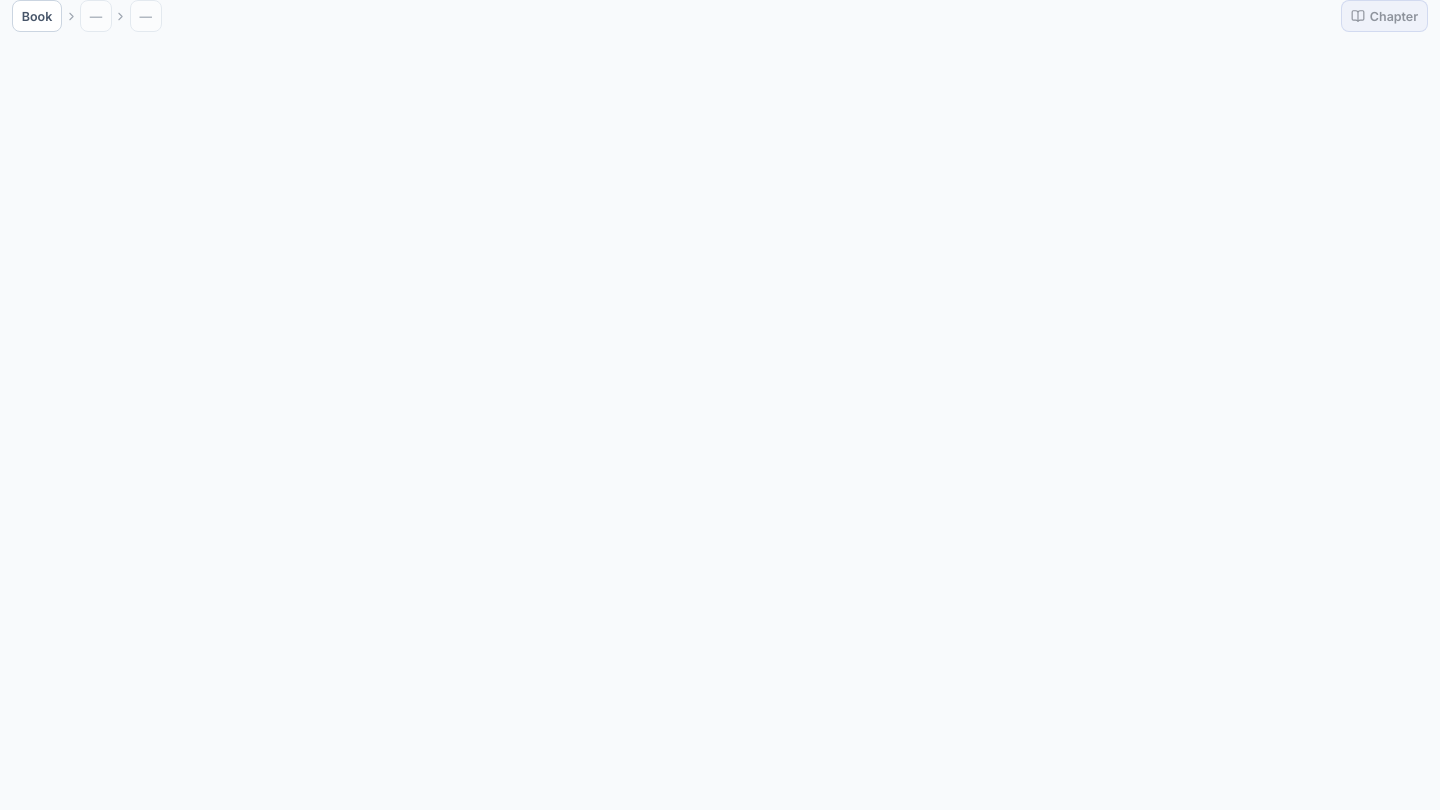
it: ScriptureNavigator › walks book → chapter → verse and reports the selection once
Click the button "Book" at (37, 16), box [12,0,62,32]
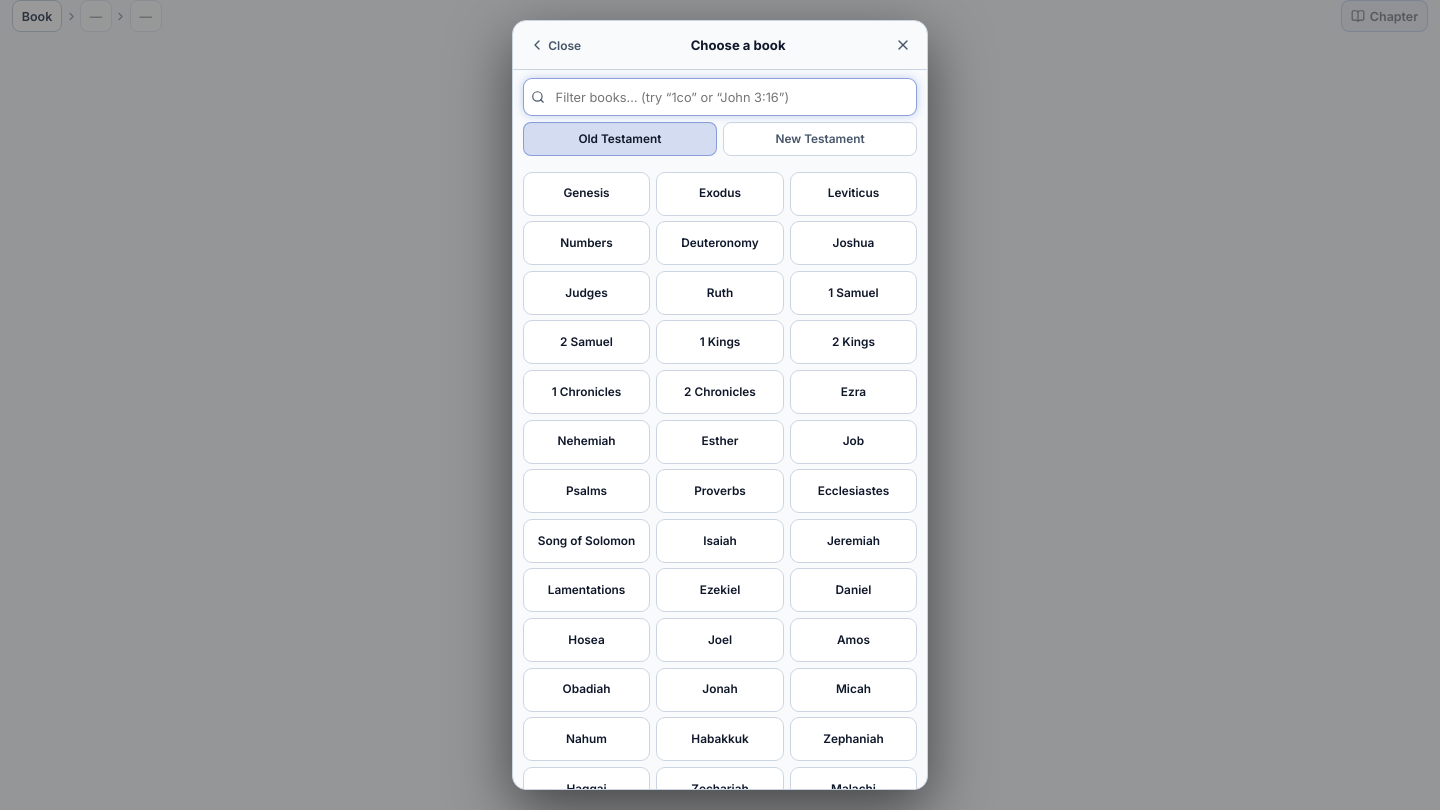
Type "John" into the field labelled "Filter books" at (720, 97), box [523,78,917,116]
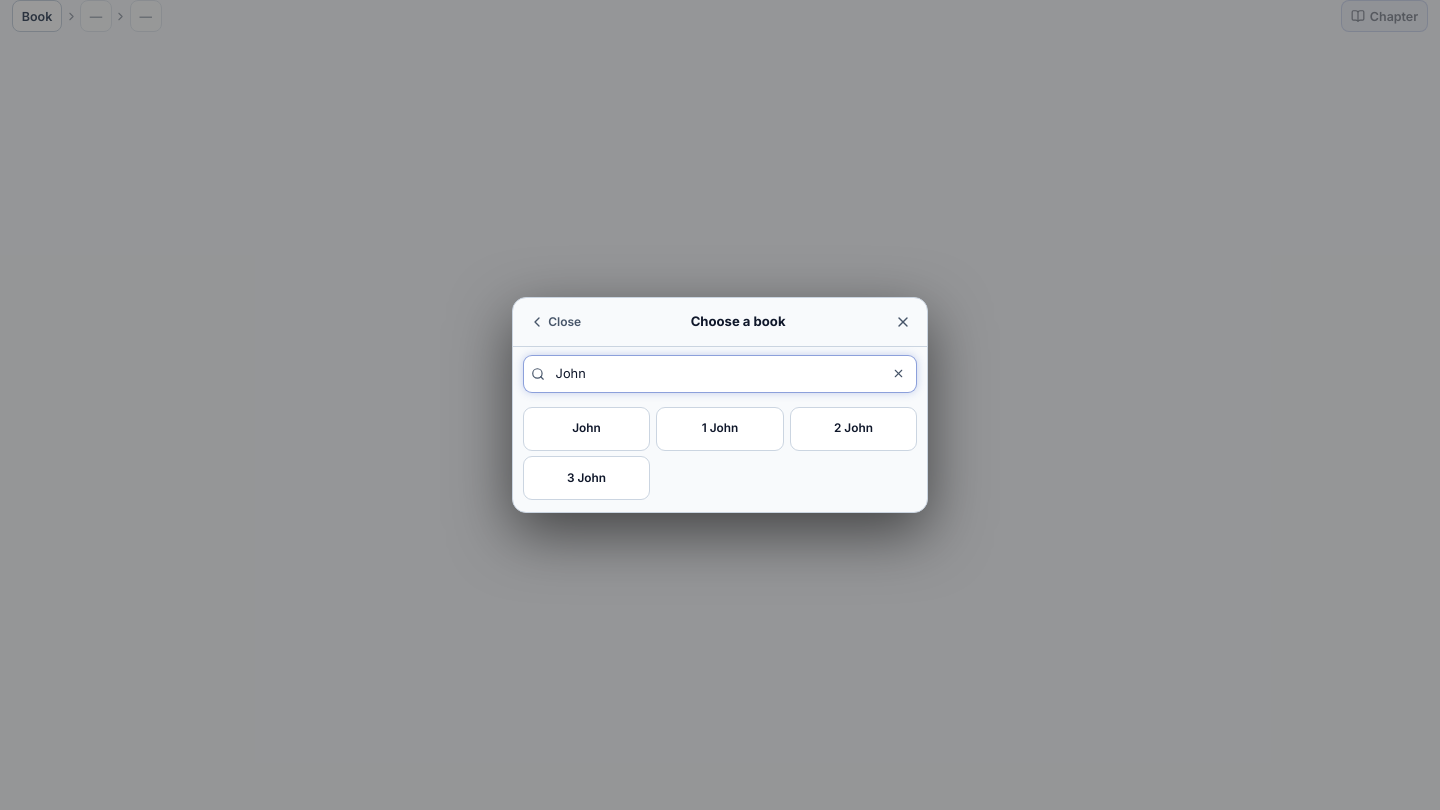
Click the button "John" at (587, 428), box [523,406,650,450]
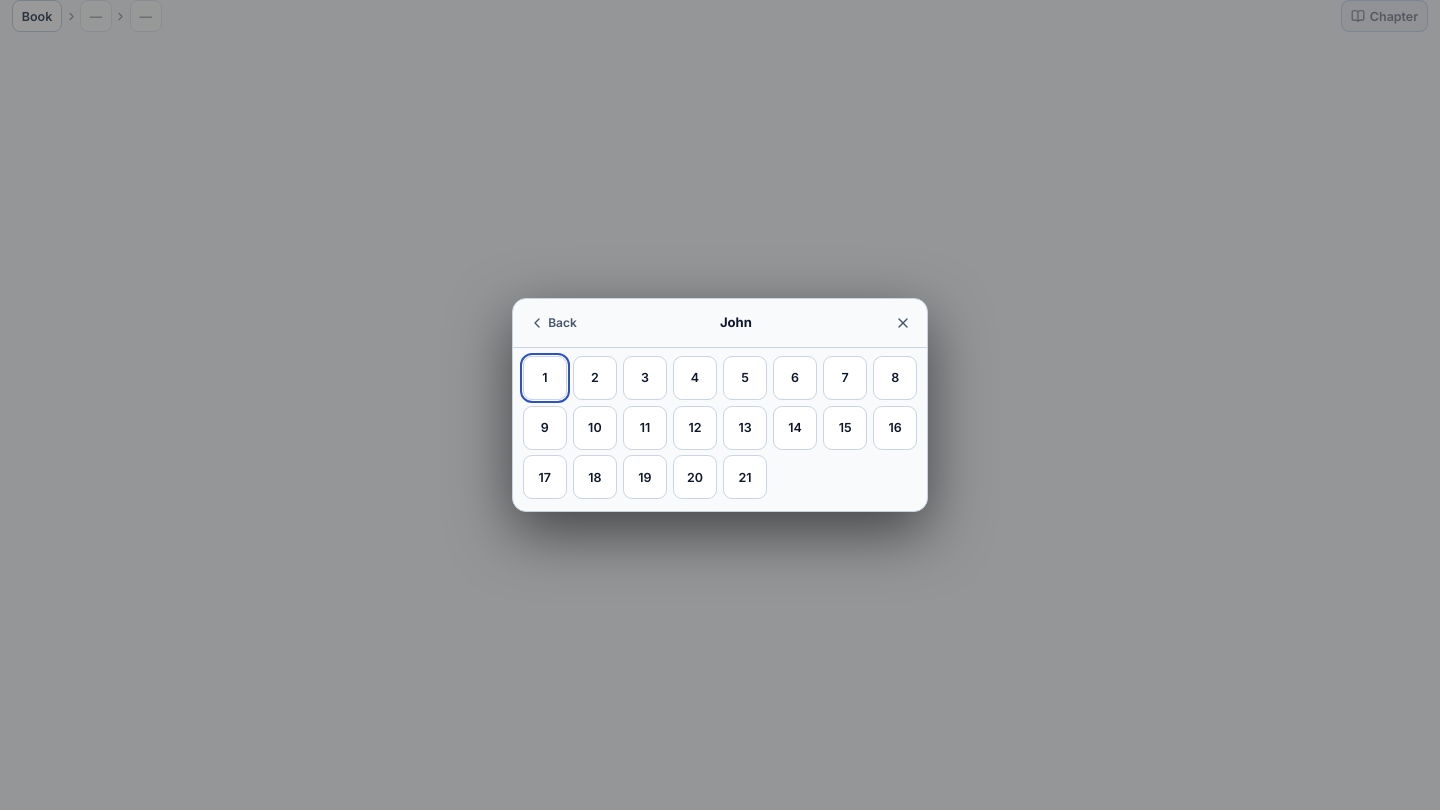
Check: the number of buttons "1" is 21
Click the button named "John chapter 3" at (645, 378), box [623,356,667,400]
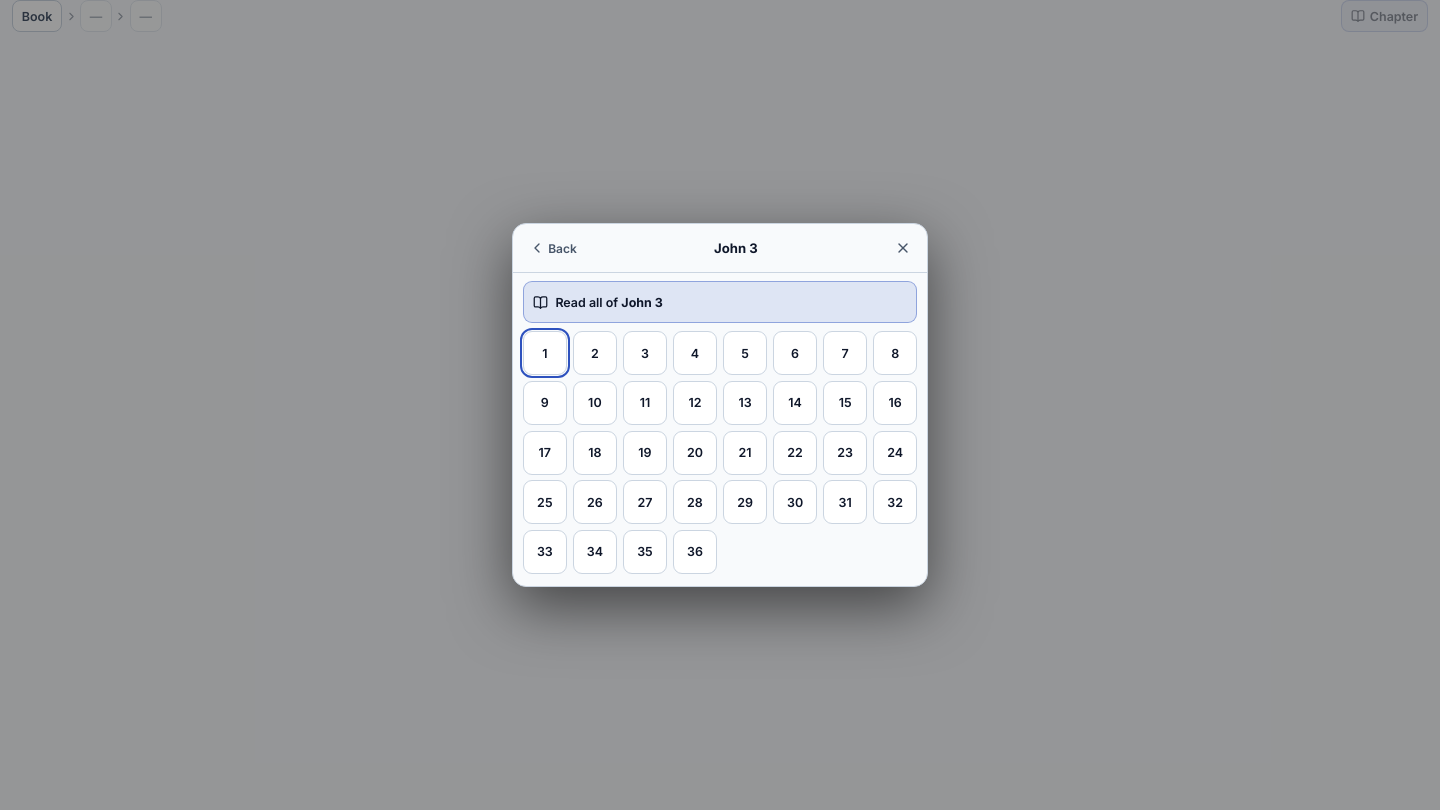
Check: the number of buttons "1" is 36
Click the button named "John 3 verse 16" at (895, 403), box [873,381,917,425]
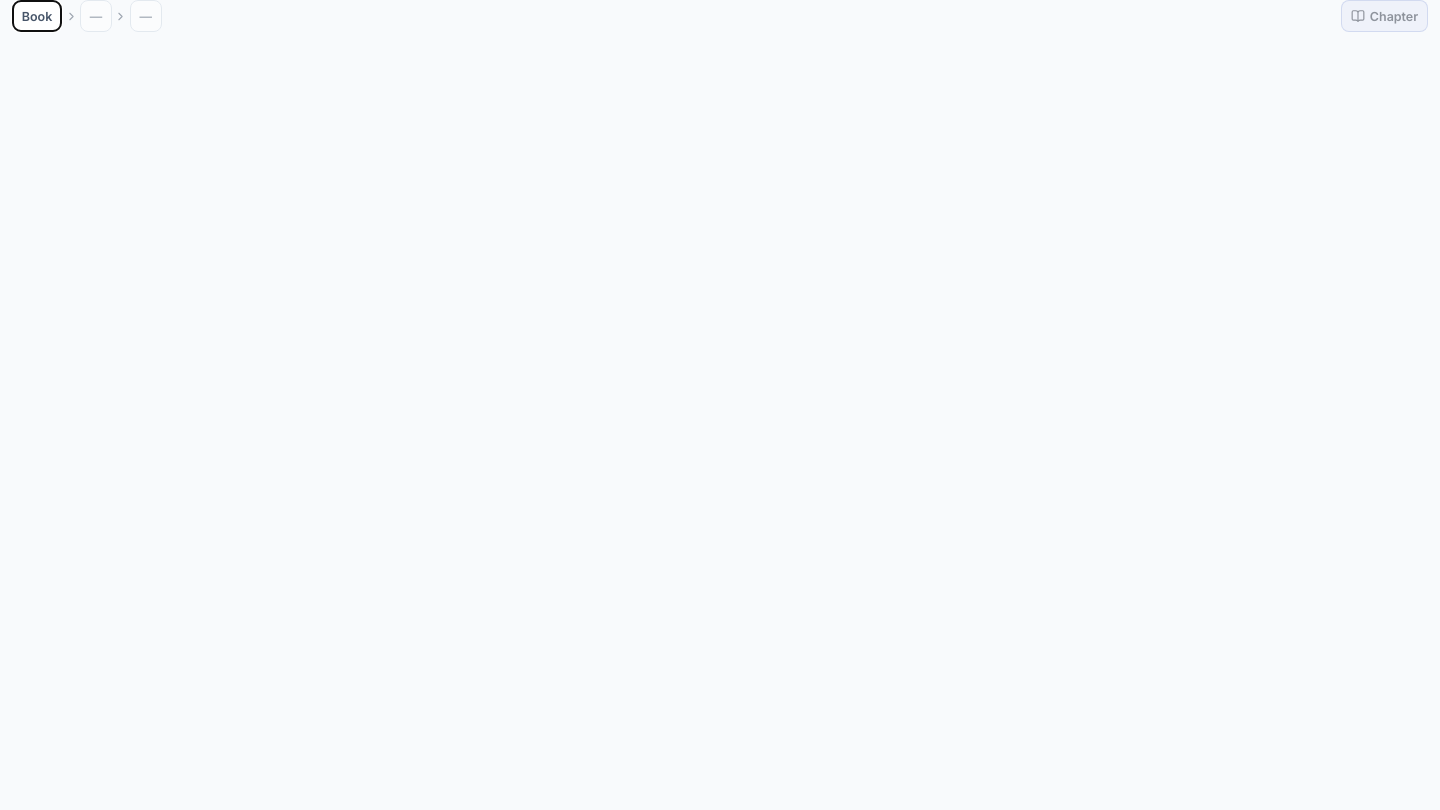
Check: the dialog is gone
